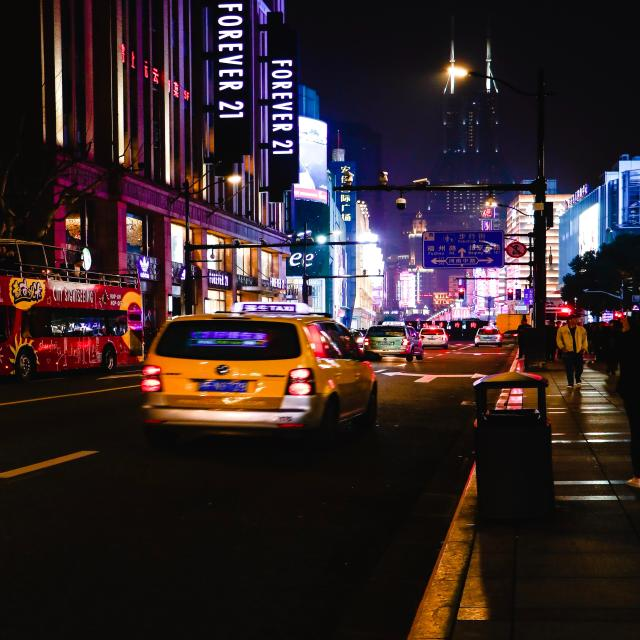Street Light: (446, 65, 550, 373), (185, 175, 242, 344), (301, 230, 343, 324)
